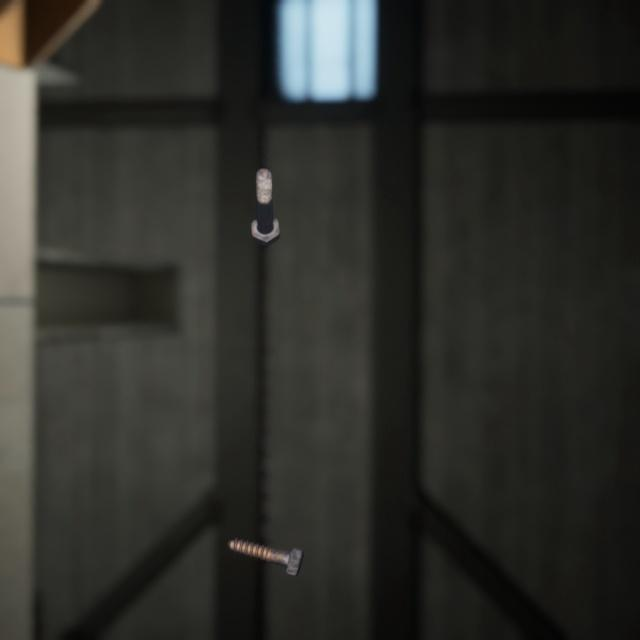bolt: (223, 510, 308, 557), (246, 148, 284, 235)
